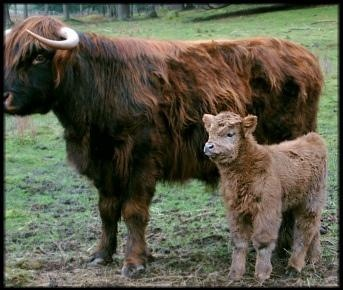cow: (6, 16, 323, 278), (200, 110, 329, 281)
